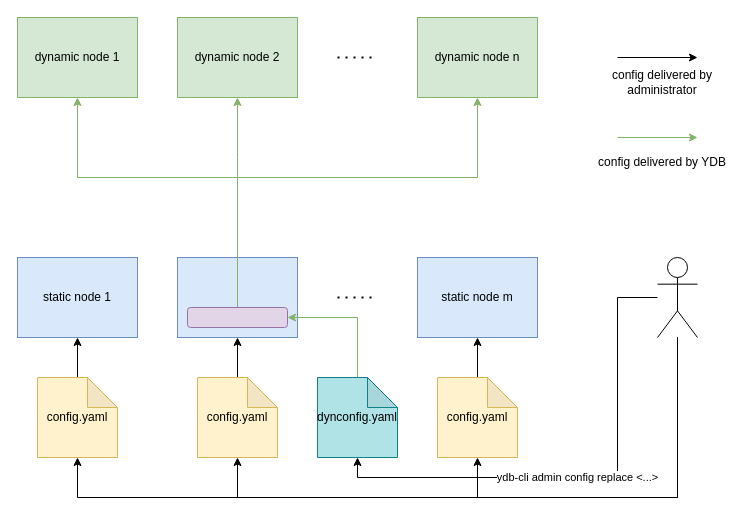
This 745x523 diagram has some shape labels left out. The shapes that lost their labels are listed below. From the top down, each one's box as (x1, y1, x2, y2) in pixels, then its label:
(176, 256, 298, 338): static node 2
(186, 306, 288, 328): Console
(656, 256, 698, 338): administrator
